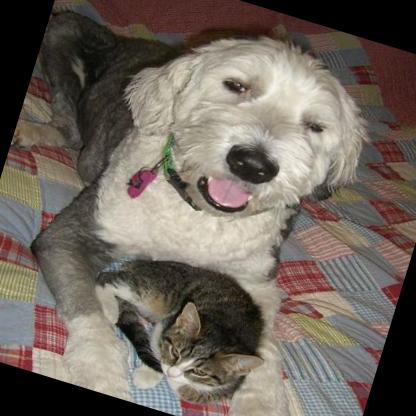Old_English_sheepdog: (0, 0, 402, 416)
